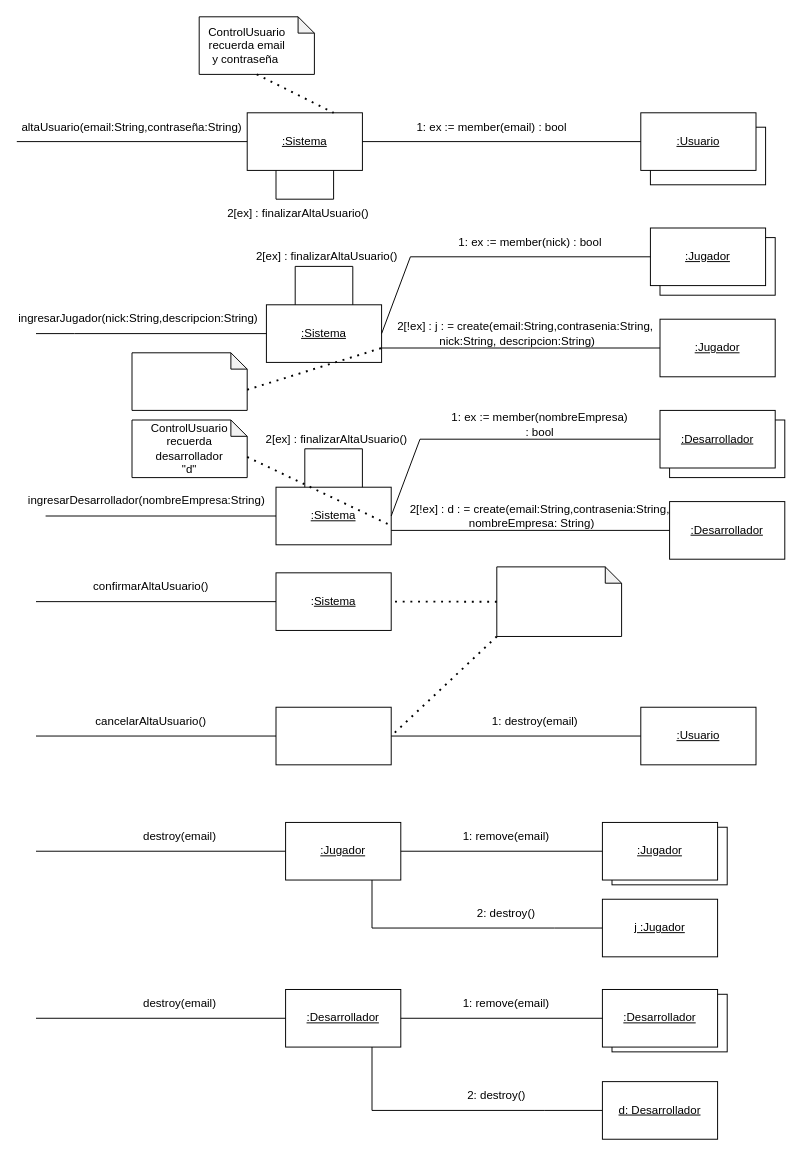
Some shapes in this 802 by 1157 pixel diagram are drawn without their labels. The shapes that lost their labels are listed below. From the top down, each one's centre as x and y in pixels, then its label:
point 189,381: ControlUsuario recuerda jugador "j"
point 559,601: Se libera la memoria recordada por ControlUsuario
point 333,735: : ControlUsuario
